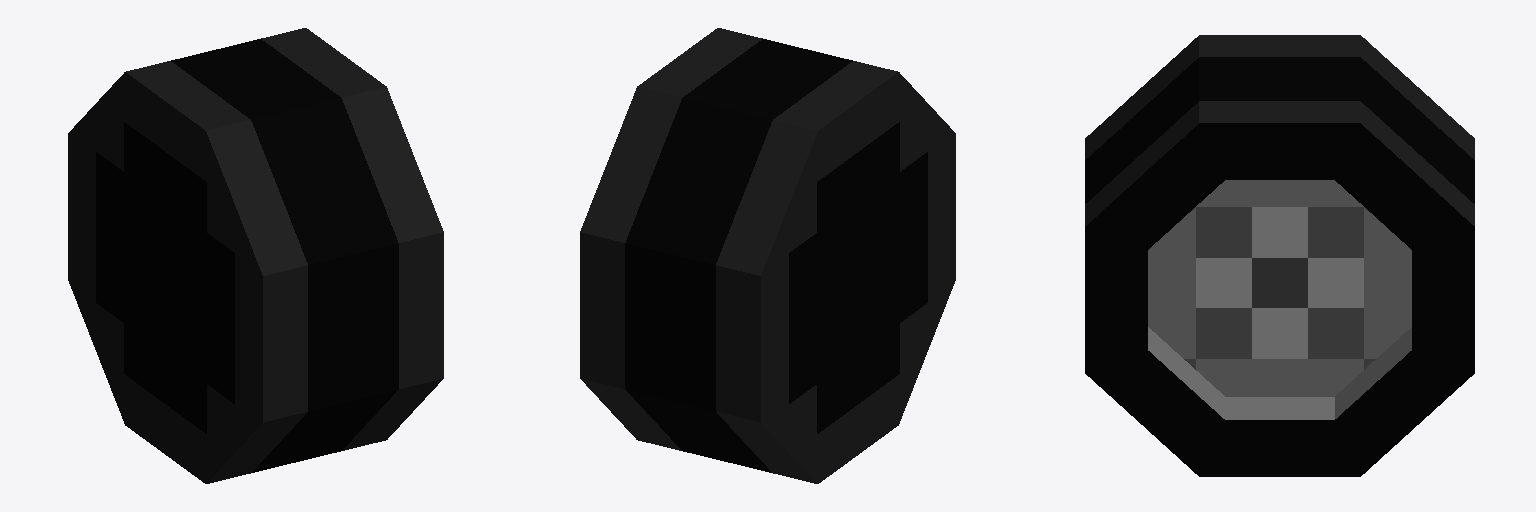
The picture shows the model from 3 angles: view 1: azimuth 30°, elevation 25°; view 2: azimuth 150°, elevation 25°; view 3: azimuth 270°, elevation 25°; orthographic projection.
Visible parts, largest first — view 1: wheel_left_1; view 2: wheel_left_1; view 3: wheel_left_1.
Boxes of the visible parts, box(x1,y1,x2,y2) form: wheel_left_1: box(68, 28, 443, 483); wheel_left_1: box(580, 28, 955, 483); wheel_left_1: box(1085, 35, 1474, 476).
Size of the model in its own units: 0.2344 by 0.4375 by 0.4375.
1 materials, 1 textured.